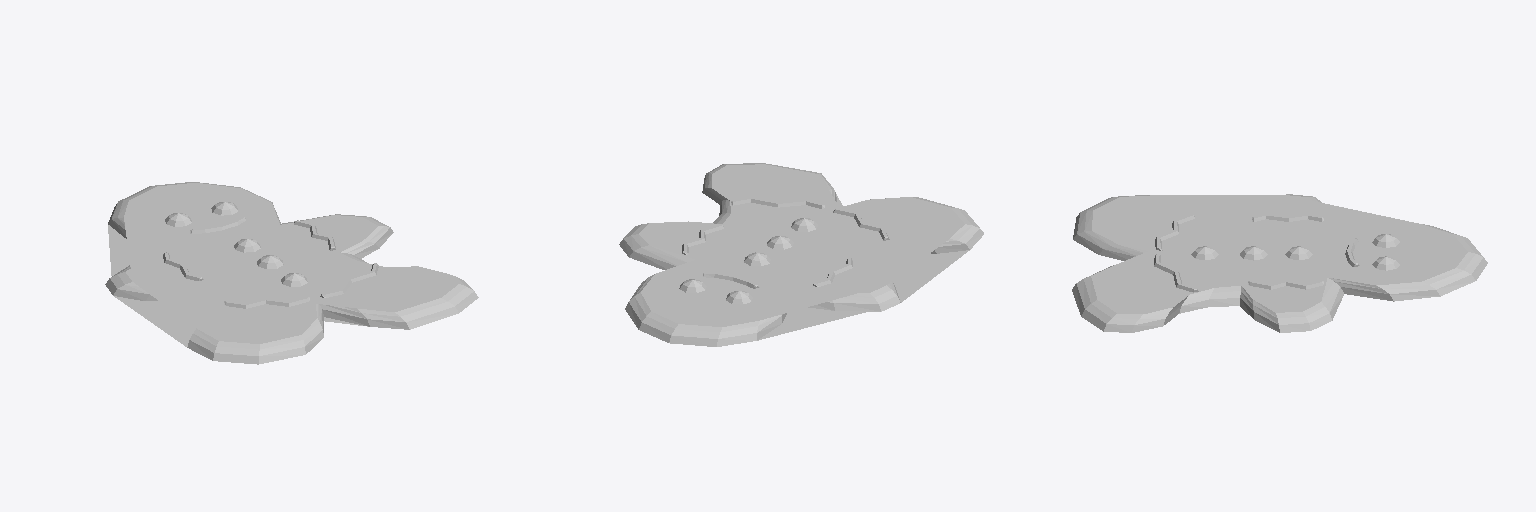
File: gbm.obj
3 renders of one model, left to right at view 1: azimuth 30°, elevation 25°; view 2: azimuth 150°, elevation 25°; view 3: azimuth 270°, elevation 25°, orthographic.
Visible parts, largest first — view 1: Sleeves_Cube.011; view 2: Sleeves_Cube.011; view 3: Sleeves_Cube.011.
Part boxes in pixels (left/top/right/bottom): Sleeves_Cube.011: left=105, top=182, right=478, bottom=364; Sleeves_Cube.011: left=619, top=163, right=983, bottom=346; Sleeves_Cube.011: left=1072, top=194, right=1487, bottom=332.
Bounding box in the file's own units: 2.12 × 0.1456 × 2.78.